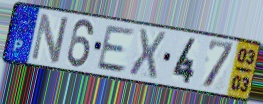4: (170, 37, 197, 85)
6: (65, 18, 95, 69)
7: (202, 38, 237, 91)
E: (94, 24, 137, 75)
N: (28, 11, 71, 65)
X: (127, 26, 168, 81)
